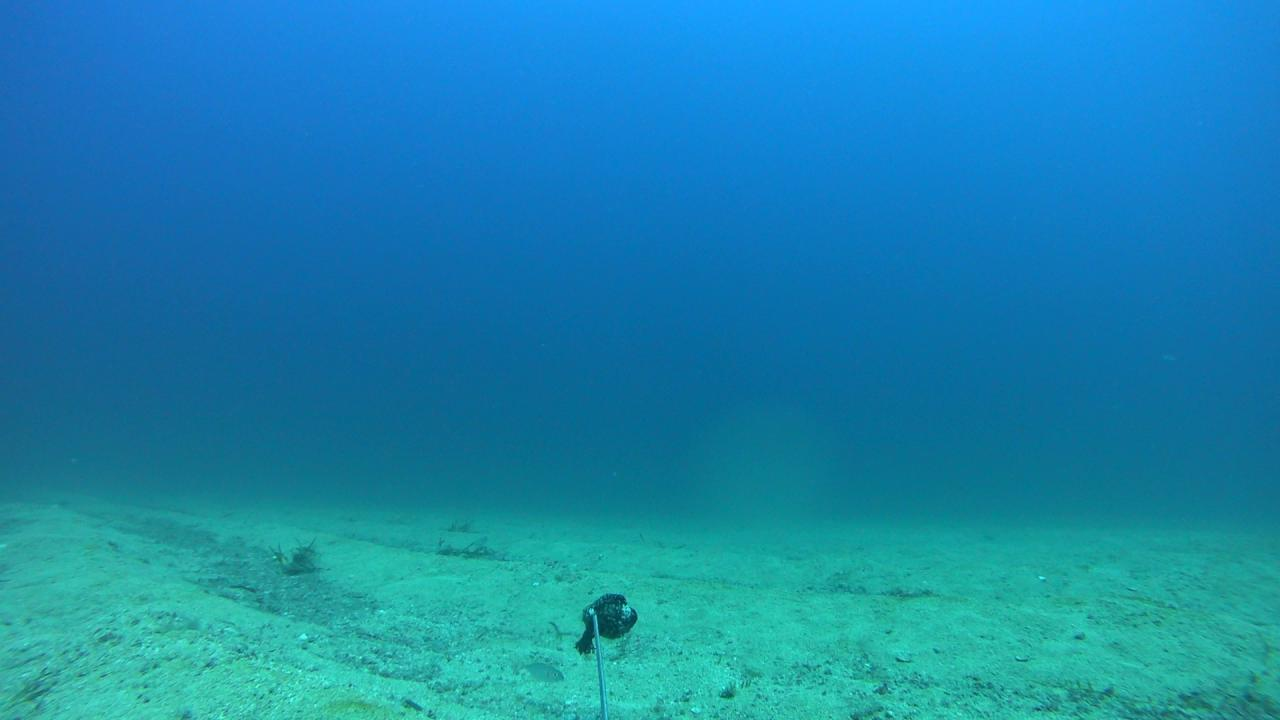pagellus: (516, 661, 566, 681)
